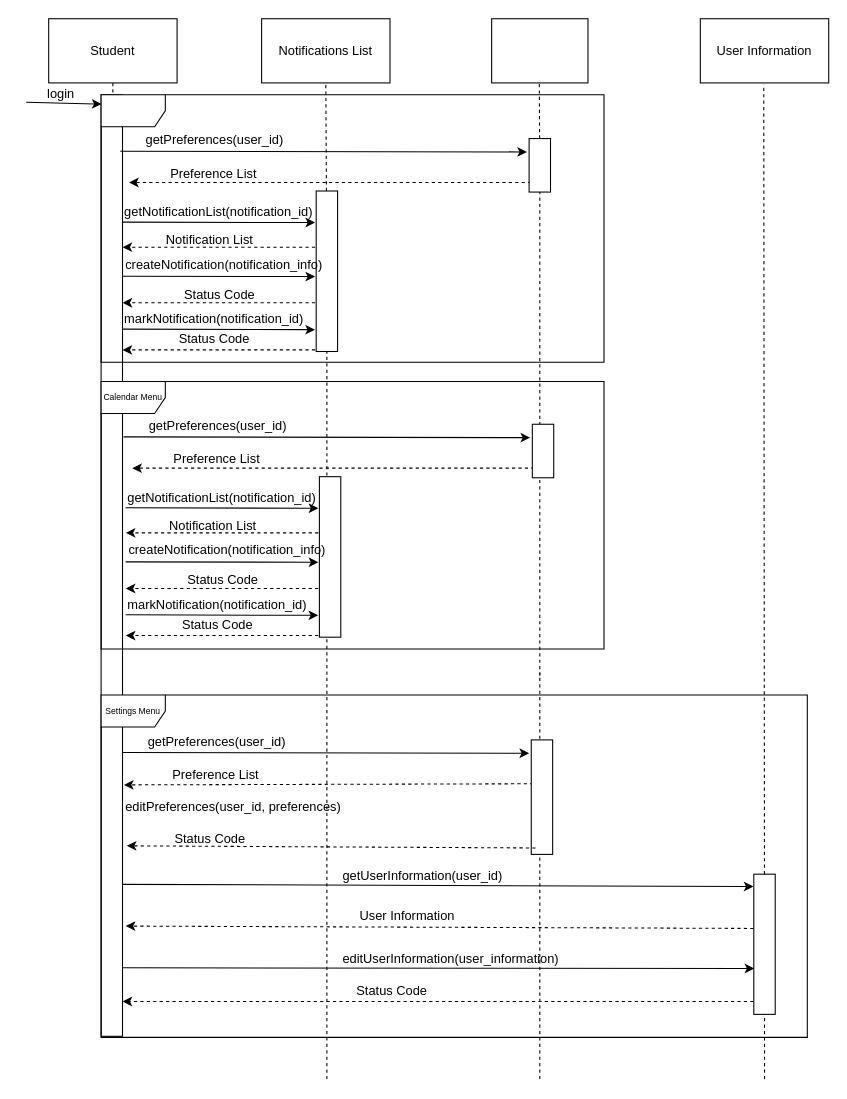
Some shapes in this 847 by 1099 pixel diagram are drawn without their labels. Here are the shapes that lost their labels. From the top down, the box of each, then its label:
(491, 18, 588, 83): Preferences (notifications and website)
(100, 94, 604, 362): Notification Menu
